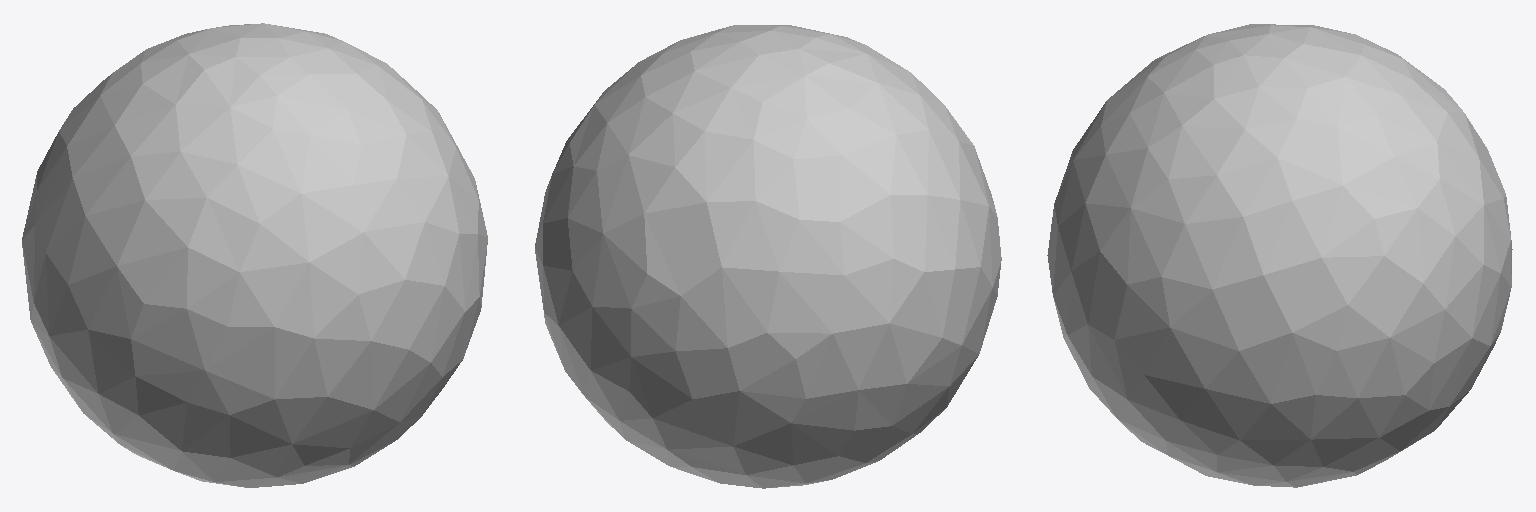
Rendered from sphere-flat.obj.
3 renders of one model, left to right at view 1: azimuth 30°, elevation 25°; view 2: azimuth 150°, elevation 25°; view 3: azimuth 270°, elevation 25°, orthographic.
Visible parts, largest first — view 1: sphere; view 2: sphere; view 3: sphere.
Part boxes in pixels (bbox=[...]): sphere: bbox=[22, 23, 487, 487]; sphere: bbox=[535, 25, 1001, 488]; sphere: bbox=[1047, 24, 1512, 487].
Bounding box in the file's own units: 1.99 × 2 × 2.